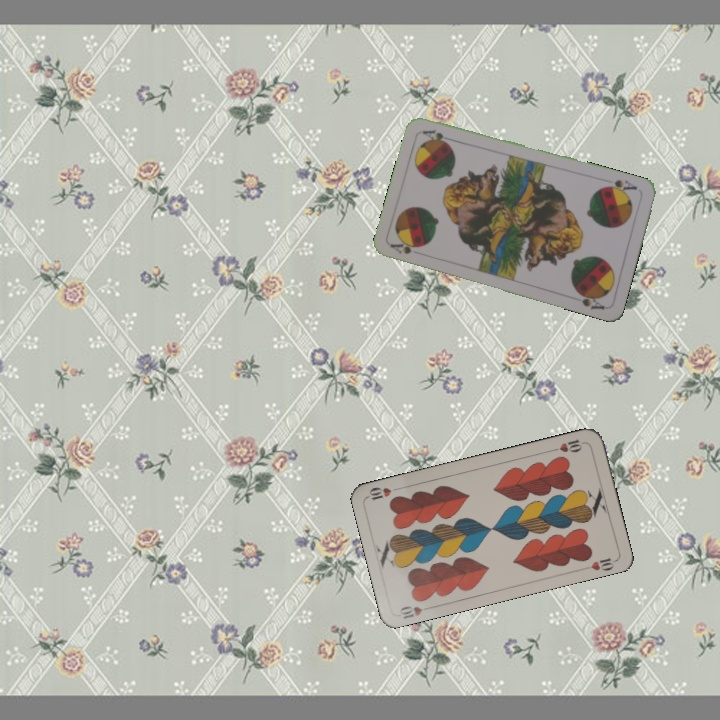H10: (548, 435, 588, 455), (395, 602, 435, 621)
SA: (600, 175, 640, 197), (387, 237, 427, 258)
